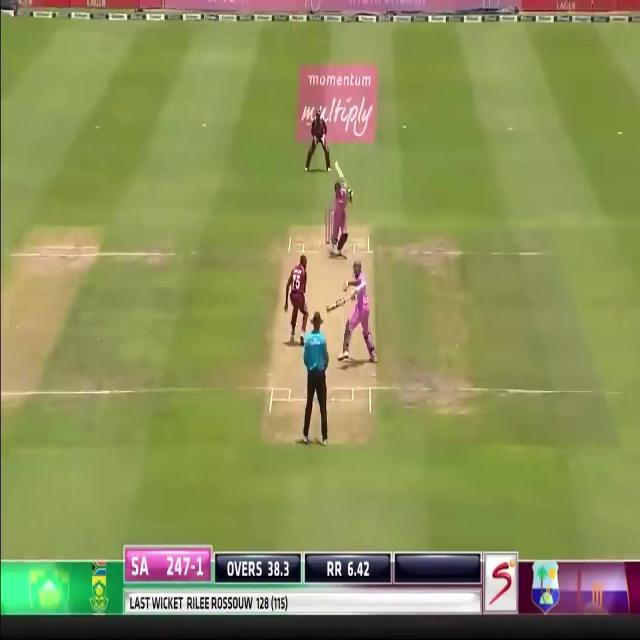Ball: (346, 259, 376, 365), (325, 178, 350, 254)
Fielder: (286, 254, 308, 340), (309, 101, 329, 171)
Umpire: (301, 312, 330, 448)
